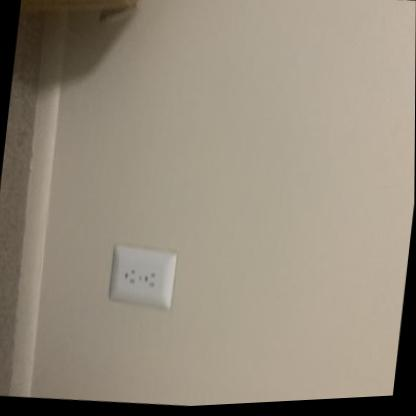OUTLET: (107, 242, 178, 313)
